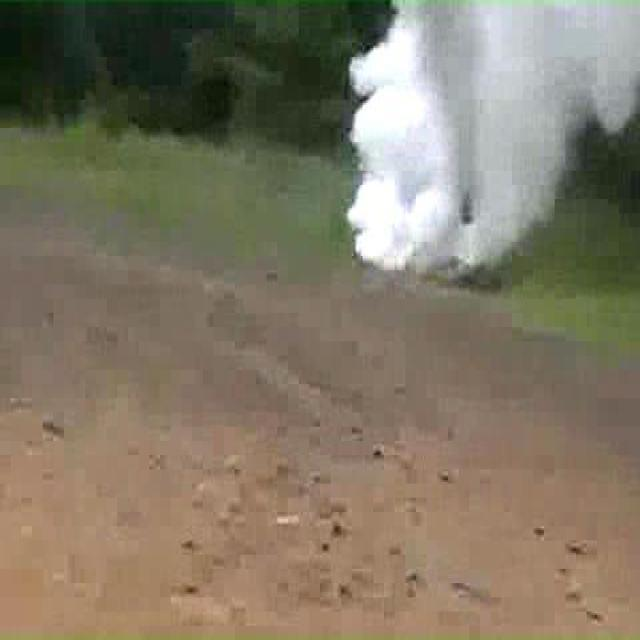Smoke: (344, 0, 639, 286)
